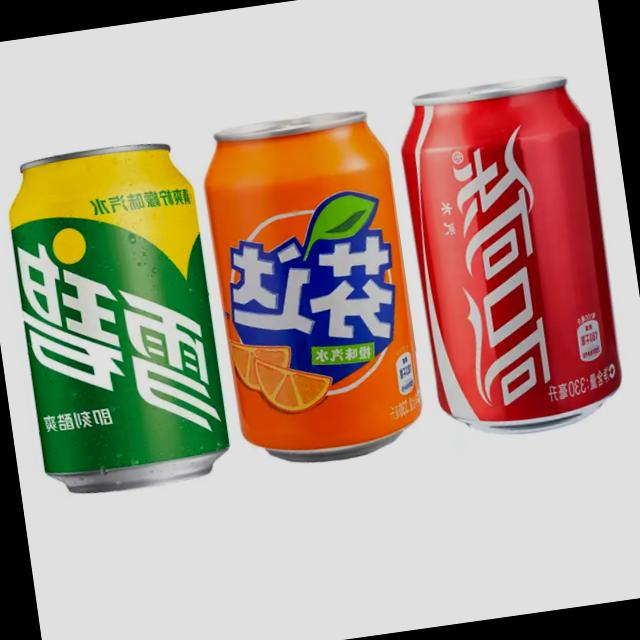can: (389, 67, 638, 450), (192, 100, 436, 477), (0, 131, 239, 505)
